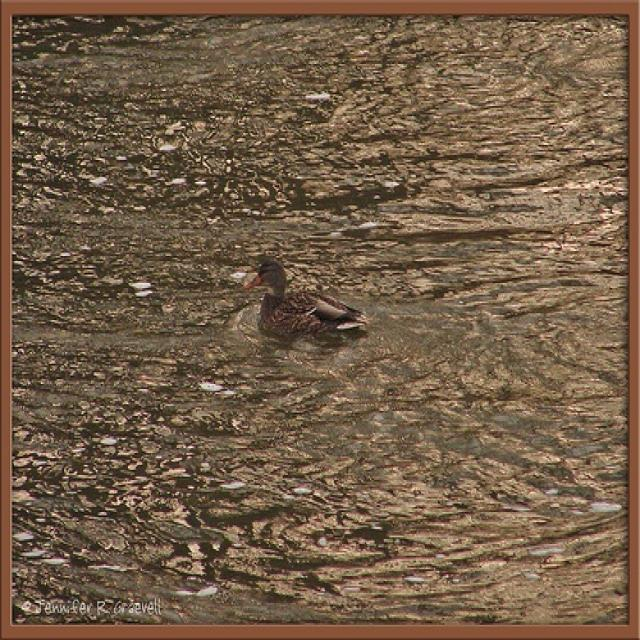bird: (240, 260, 368, 340)
